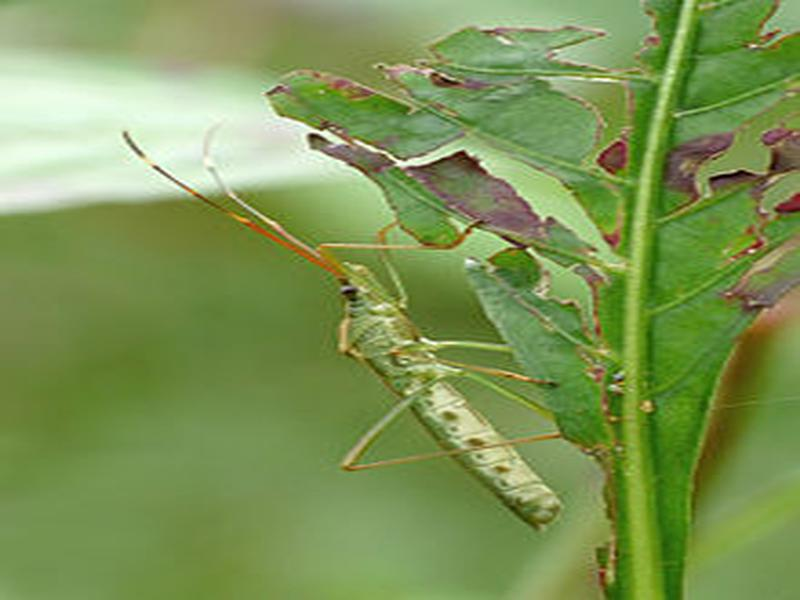Rice_earhead_bug: (301, 191, 586, 546)
